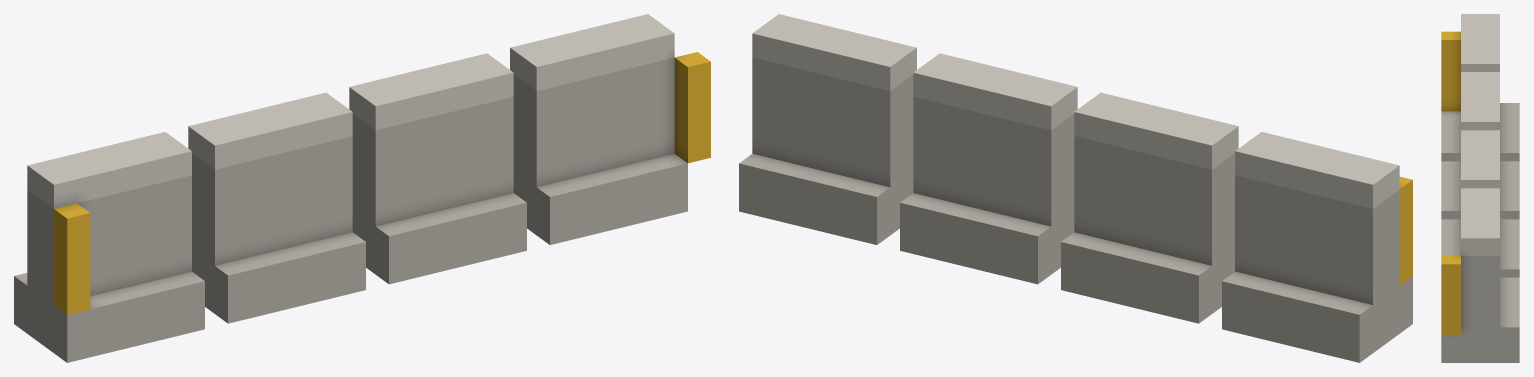
Rendered from cm_wall.glb.
3 views of the same model, side by side, from view 1: azimuth 30°, elevation 25°; view 2: azimuth 150°, elevation 25°; view 3: azimuth 270°, elevation 25° (orthographic). The views are drawn at different scales.
Parts seen in each view (by area): view 1: cm_wall_body; view 2: cm_wall_body; view 3: cm_wall_body.
Part boxes in pixels (x1,y1,x2,y2): cm_wall_body: (14, 14, 710, 362); cm_wall_body: (739, 14, 1412, 362); cm_wall_body: (1441, 14, 1519, 362).
Bounding box in the file's own units: 1.75 × 0.4375 × 0.25.
1 material, 1 textured.
